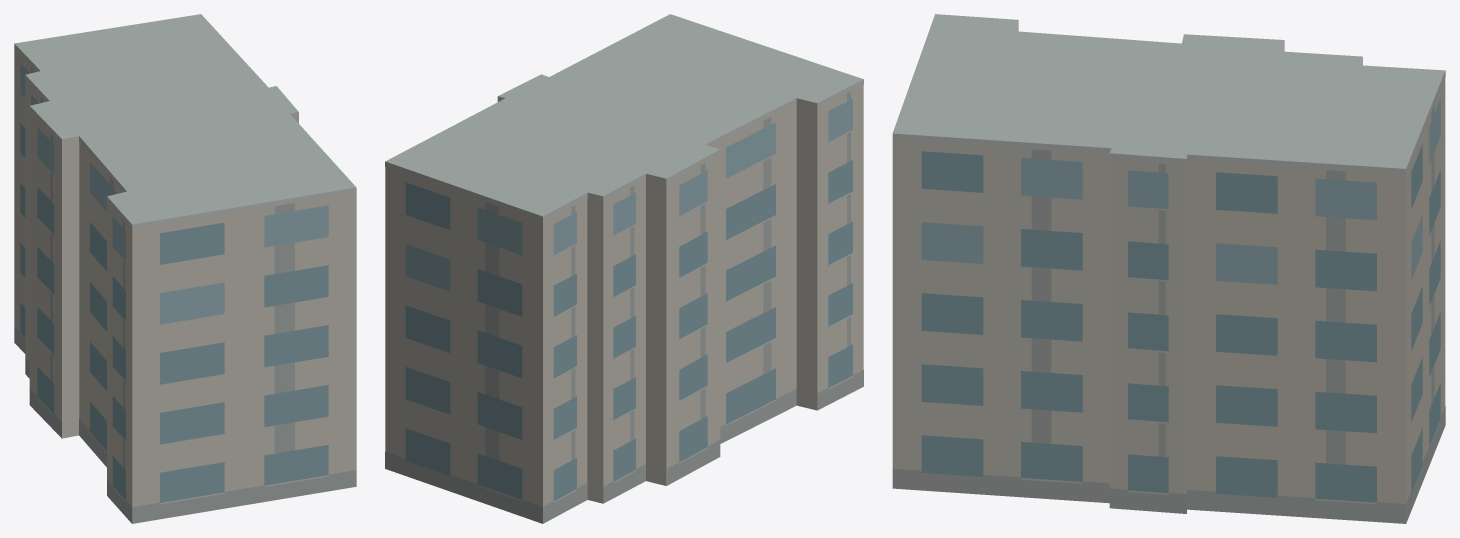
File: survey-upis-33039357.glb
3 views of the same model, side by side, from view 1: azimuth 30°, elevation 25°; view 2: azimuth 150°, elevation 25°; view 3: azimuth 270°, elevation 25° (orthographic). The views are drawn at different scales.
Visible parts, largest first — view 1: survey-upis-33039357.tmp; view 2: survey-upis-33039357.tmp; view 3: survey-upis-33039357.tmp.
Part boxes in pixels (x1,y1,x2,y2): survey-upis-33039357.tmp: [14, 14, 356, 523]; survey-upis-33039357.tmp: [385, 14, 863, 523]; survey-upis-33039357.tmp: [892, 14, 1445, 523].
Bounding box in the file's own units: 12.55 × 13.4 × 18.93.
